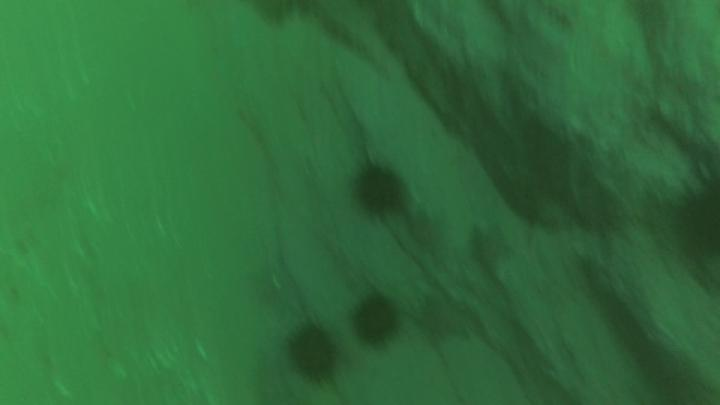echinus: (672, 164, 720, 272), (281, 319, 344, 391), (343, 289, 407, 352), (351, 154, 410, 222)
starfish: (410, 292, 475, 345), (470, 221, 518, 276), (406, 207, 453, 258)
